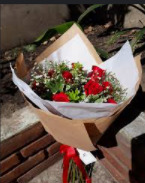RedRose: (83, 80, 103, 97)
